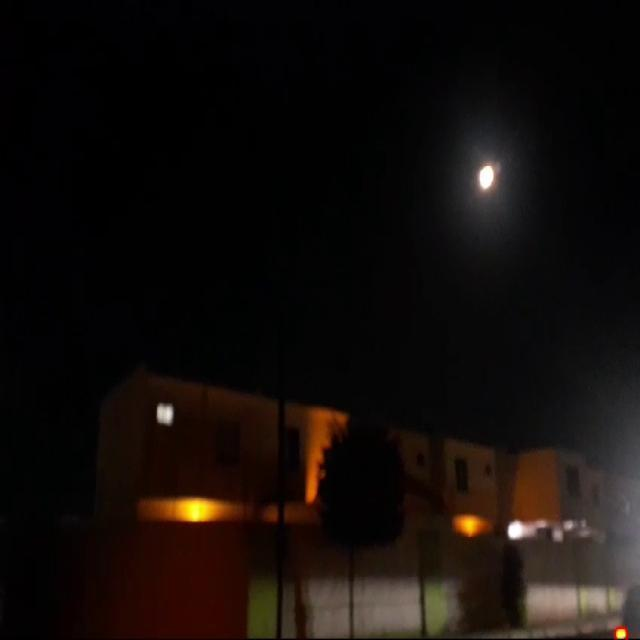moon: (479, 158, 499, 192)
